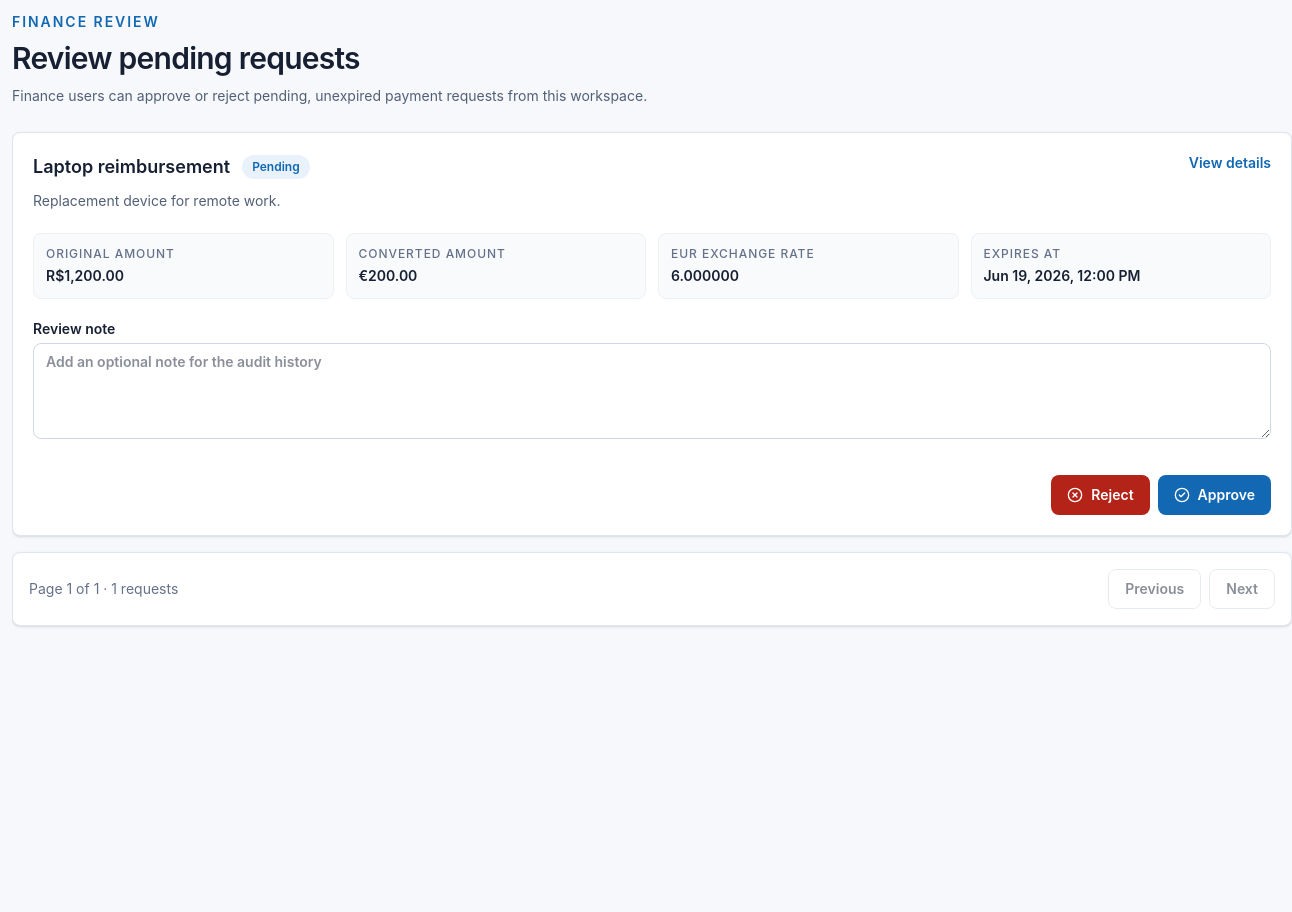
FinanceReviewPage › rejects a pending payment request with an optional review note
The image size is (1292, 912).
In the text box labelled "Review note": (652, 391) x1=33 y1=343 x2=1271 y2=439, type "Missing receipt."
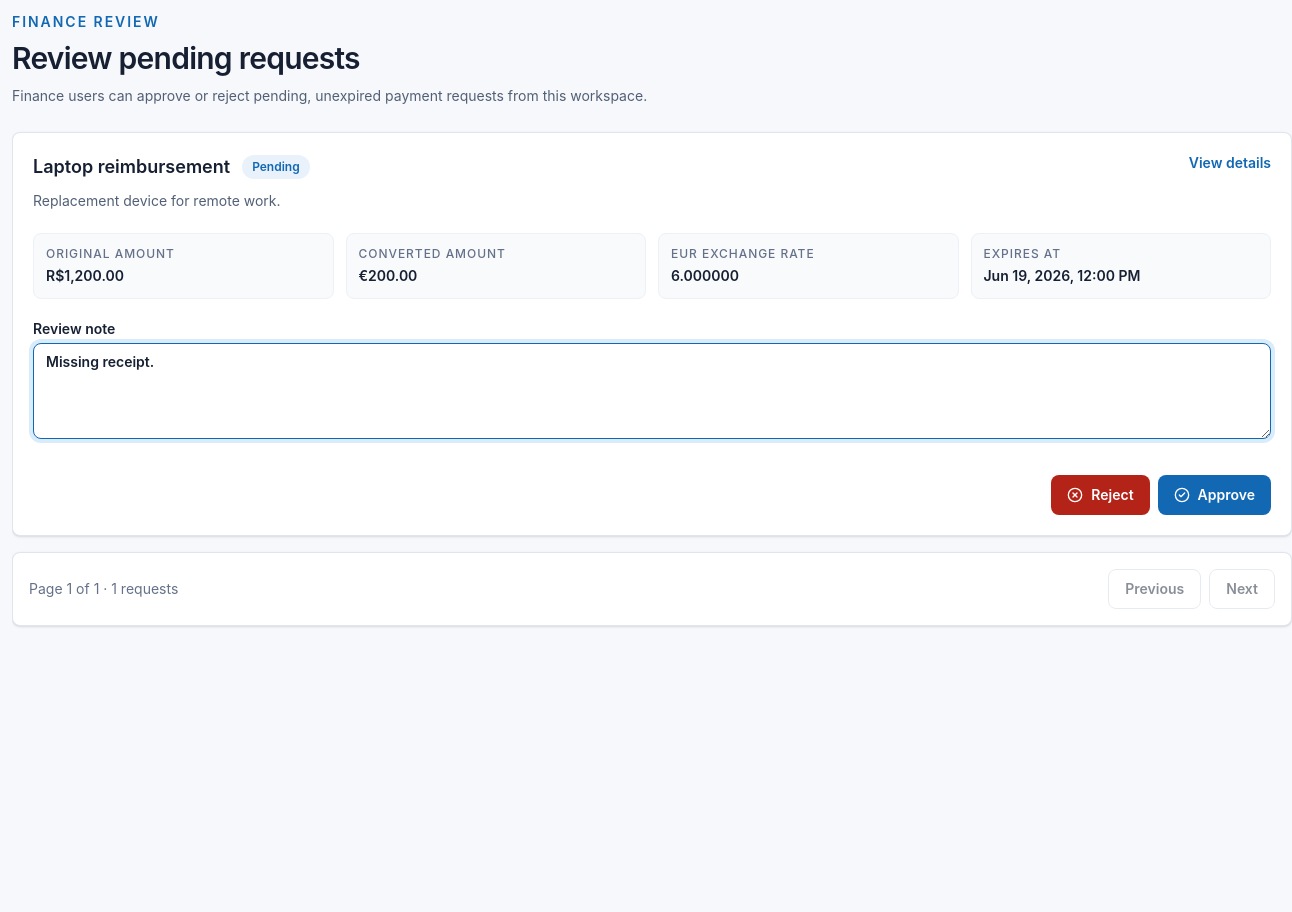
Click the button "Reject": (1100, 495) x1=1051 y1=475 x2=1150 y2=515
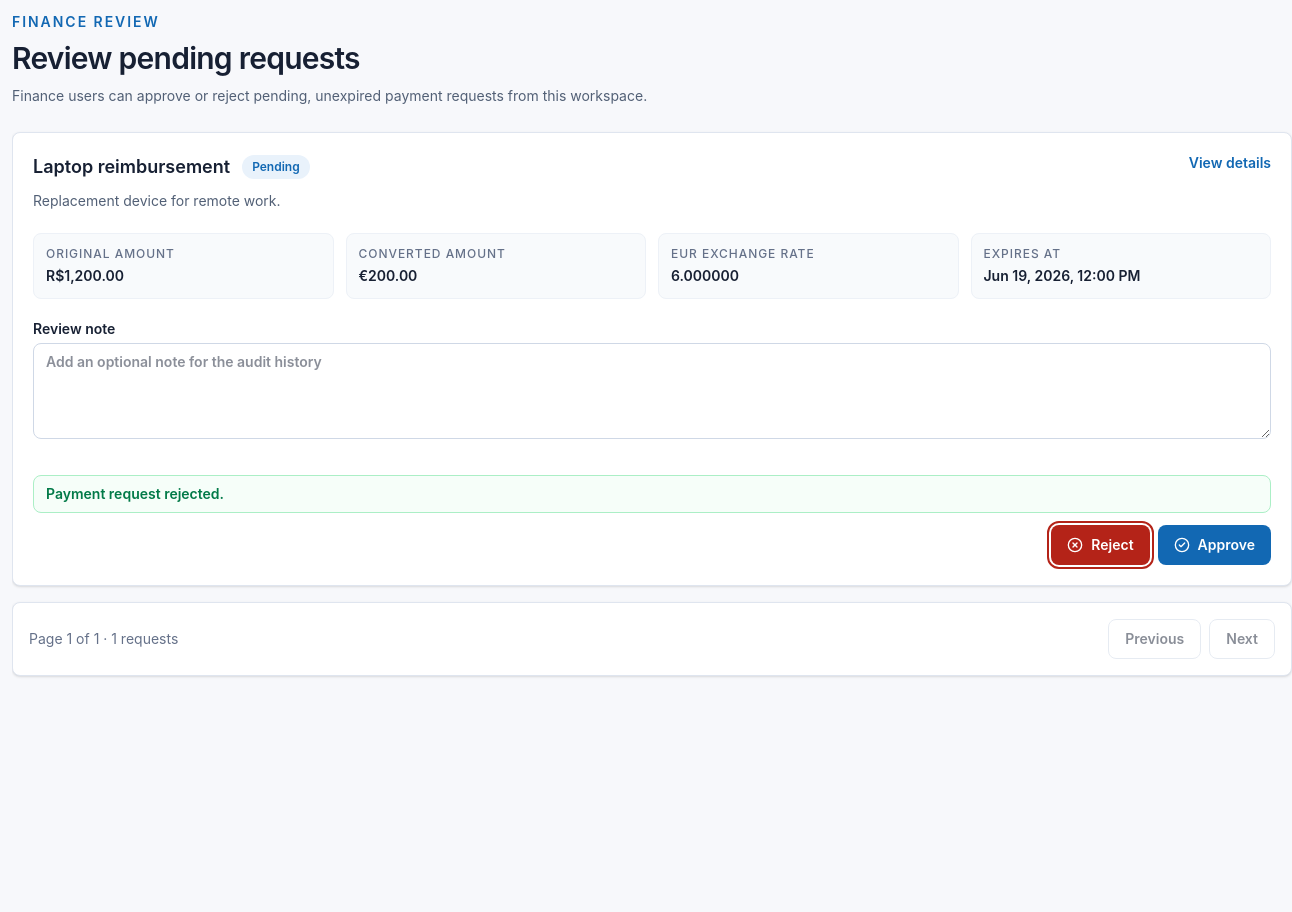
Expected: the text "Payment request rejected." is shown, x1=33 y1=475 x2=1271 y2=513
